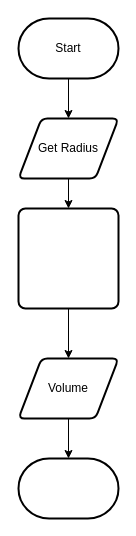
The diagram is 136 pixels wide and 536 high, and some of its shapes have lost their labels. The centre of each missing label's shape, as x and y in pixels:
"4/3 ℼr ³" goes at point (68, 258).
"Stop" goes at point (68, 488).
